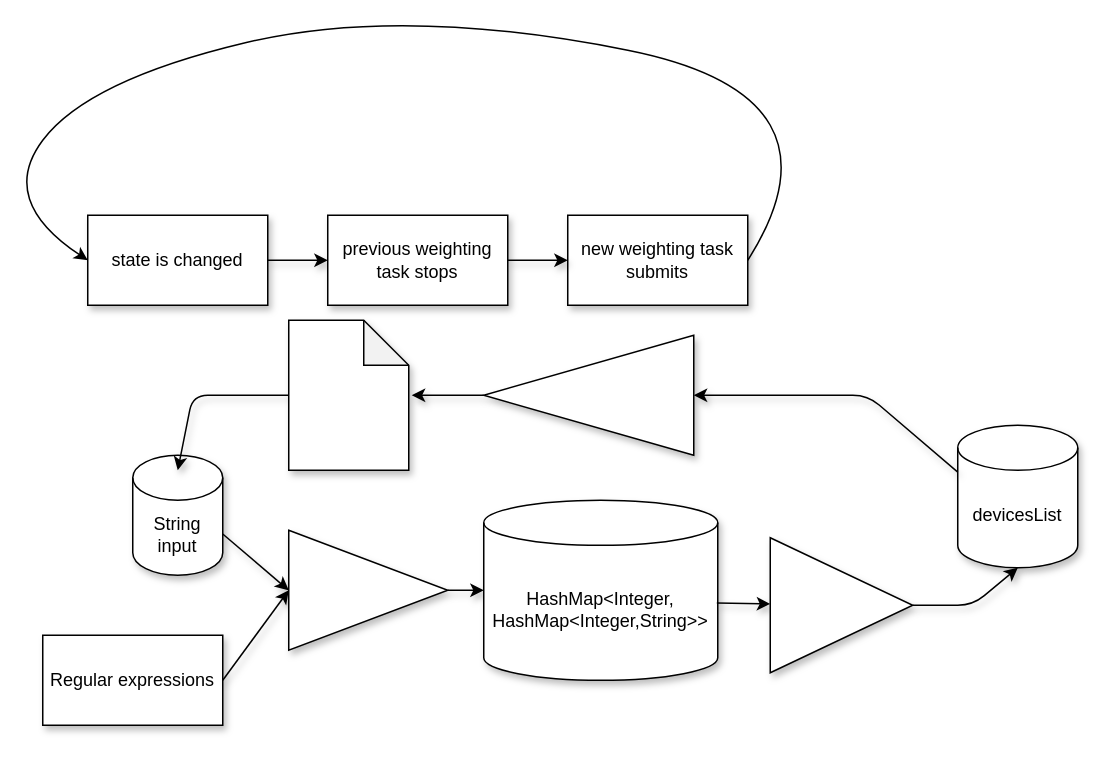
Some shapes in this 1113 by 764 pixel diagram are drawn without their labels. The shapes that lost their labels are listed below. From the top down, each one's centre as x and y in pixels, then its label:
At point (349, 397): "Parameters file".
At point (589, 397): "Information generation".
At point (369, 592): "Parsing methods".
At point (842, 606): "Objects generation".
